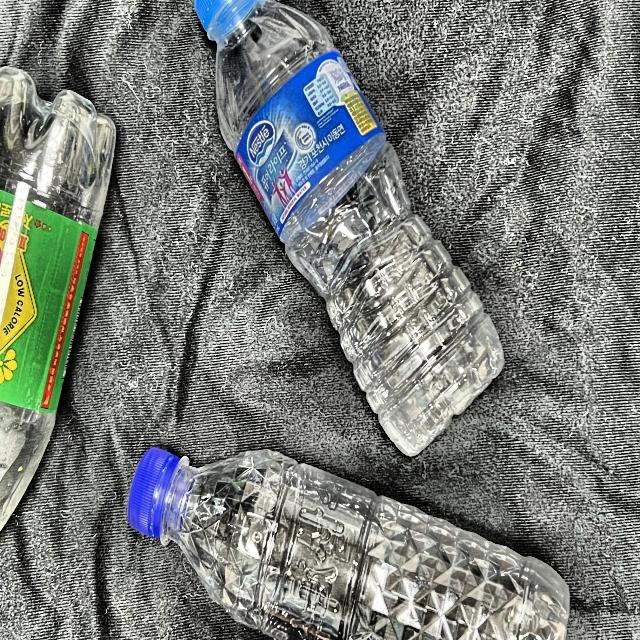plastic: (167, 0, 542, 491), (99, 383, 628, 640), (0, 44, 148, 640)
